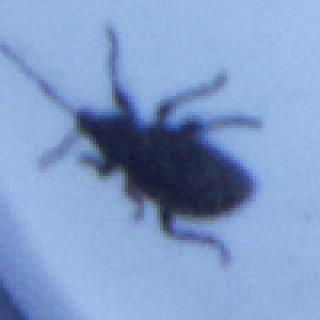bvw: (1, 22, 260, 266)
